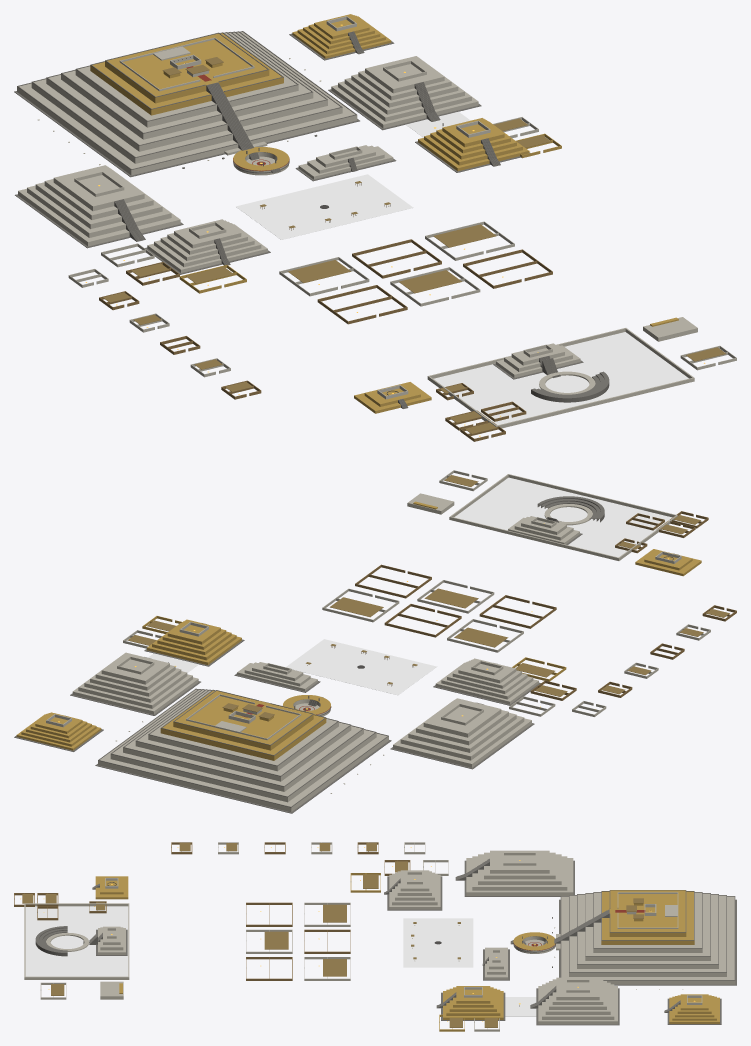
File: caral_rts_kit.glb
The picture shows the model from 3 angles, top to bottom: view 1: azimuth 30°, elevation 25°; view 2: azimuth 150°, elevation 25°; view 3: azimuth 270°, elevation 25°; orthographic projection. The views are drawn at different scales.
Visible parts, largest first — view 1: GEO-Caral_PyramideMayor_LOD0, GEO-Caral_TemploAnfiteatro_LOD0, GEO-Caral_PiramideCentral_LOD0, GEO-Caral_PiramideGaleria_LOD0, GEO-Caral_PlazaCentral_LOD0, GEO-Caral_PiramideCantera_LOD0, GEO-Caral_PiramideHuanca_LOD0, GEO-Caral_PiramideMenor_LOD0, GEO-Caral_EdificiosE2E3_LOD0, GEO-Caral_PlazaMayor_LOD0, GEO-Caral_AltarCircular_LOD0, GEO-Caral_ResidencialMayor_22_LOD0 (+8 smaller); view 2: GEO-Caral_PyramideMayor_LOD0, GEO-Caral_TemploAnfiteatro_LOD0, GEO-Caral_PiramideCentral_LOD0, GEO-Caral_PiramideGaleria_LOD0, GEO-Caral_PlazaCentral_LOD0, GEO-Caral_PiramideCantera_LOD0, GEO-Caral_PiramideHuanca_LOD0, GEO-Caral_PiramideMenor_LOD0, GEO-Caral_EdificiosE2E3_LOD0, GEO-Caral_ResidencialMayor_31_LOD0, GEO-Caral_ResidencialMayor_11_LOD0, GEO-Caral_ResidencialMayor_22_LOD0 (+7 smaller); view 3: GEO-Caral_PyramideMayor_LOD0, GEO-Caral_TemploAnfiteatro_LOD0, GEO-Caral_PiramideCentral_LOD0, GEO-Caral_PiramideGaleria_LOD0, GEO-Caral_PlazaCentral_LOD0, GEO-Caral_PiramideCantera_LOD0, GEO-Caral_PiramideHuanca_LOD0, GEO-Caral_PiramideMenor_LOD0, GEO-Caral_EdificiosE2E3_LOD0, GEO-Caral_PlazaMayor_LOD0, GEO-Caral_AltarCircular_LOD0, GEO-Caral_ResidencialMayor_22_LOD0 (+9 smaller).
Part boxes in pixels (box(x1,y1,x2,y2)): GEO-Caral_PyramideMayor_LOD0: box(14, 31, 359, 177); GEO-Caral_TemploAnfiteatro_LOD0: box(427, 328, 694, 428); GEO-Caral_PiramideCentral_LOD0: box(15, 165, 183, 248); GEO-Caral_PiramideGaleria_LOD0: box(328, 56, 481, 130); GEO-Caral_PlazaCentral_LOD0: box(236, 174, 413, 239); GEO-Caral_PiramideCantera_LOD0: box(144, 219, 270, 274); GEO-Caral_PiramideHuanca_LOD0: box(415, 118, 530, 172); GEO-Caral_PiramideMenor_LOD0: box(289, 14, 394, 60); GEO-Caral_EdificiosE2E3_LOD0: box(295, 145, 396, 181); GEO-Caral_PlazaMayor_LOD0: box(224, 141, 289, 175); GEO-Caral_AltarCircular_LOD0: box(354, 382, 431, 413); GEO-Caral_ResidencialMayor_22_LOD0: box(390, 267, 480, 306); GEO-Caral_PyramideMayor_LOD0: box(95, 688, 391, 813); GEO-Caral_TemploAnfiteatro_LOD0: box(449, 474, 677, 560); GEO-Caral_PiramideCentral_LOD0: box(390, 698, 534, 769); GEO-Caral_PiramideGaleria_LOD0: box(70, 652, 200, 715); GEO-Caral_PlazaCentral_LOD0: box(286, 639, 436, 695); GEO-Caral_PiramideCantera_LOD0: box(433, 658, 540, 705); GEO-Caral_PiramideHuanca_LOD0: box(144, 619, 244, 666); GEO-Caral_PiramideMenor_LOD0: box(14, 712, 103, 751); GEO-Caral_EdificiosE2E3_LOD0: box(234, 662, 320, 692); GEO-Caral_ResidencialMayor_31_LOD0: box(322, 588, 399, 622); GEO-Caral_ResidencialMayor_11_LOD0: box(447, 619, 523, 652); GEO-Caral_ResidencialMayor_22_LOD0: box(417, 580, 494, 613); GEO-Caral_PyramideMayor_LOD0: box(554, 890, 736, 985); GEO-Caral_TemploAnfiteatro_LOD0: box(24, 903, 129, 979); GEO-Caral_PiramideCentral_LOD0: box(455, 850, 574, 896); GEO-Caral_PiramideGaleria_LOD0: box(530, 977, 619, 1025); GEO-Caral_PlazaCentral_LOD0: box(403, 918, 473, 967); GEO-Caral_PiramideCantera_LOD0: box(384, 870, 442, 910); GEO-Caral_PiramideHuanca_LOD0: box(436, 986, 505, 1020); GEO-Caral_PiramideMenor_LOD0: box(664, 994, 721, 1024); GEO-Caral_EdificiosE2E3_LOD0: box(482, 947, 509, 980); GEO-Caral_PlazaMayor_LOD0: box(510, 932, 560, 953); GEO-Caral_AltarCircular_LOD0: box(92, 876, 128, 899); GEO-Caral_ResidencialMayor_22_LOD0: box(246, 929, 292, 953).
Bounding box in the file's own units: 380 × 35.18 × 620.
